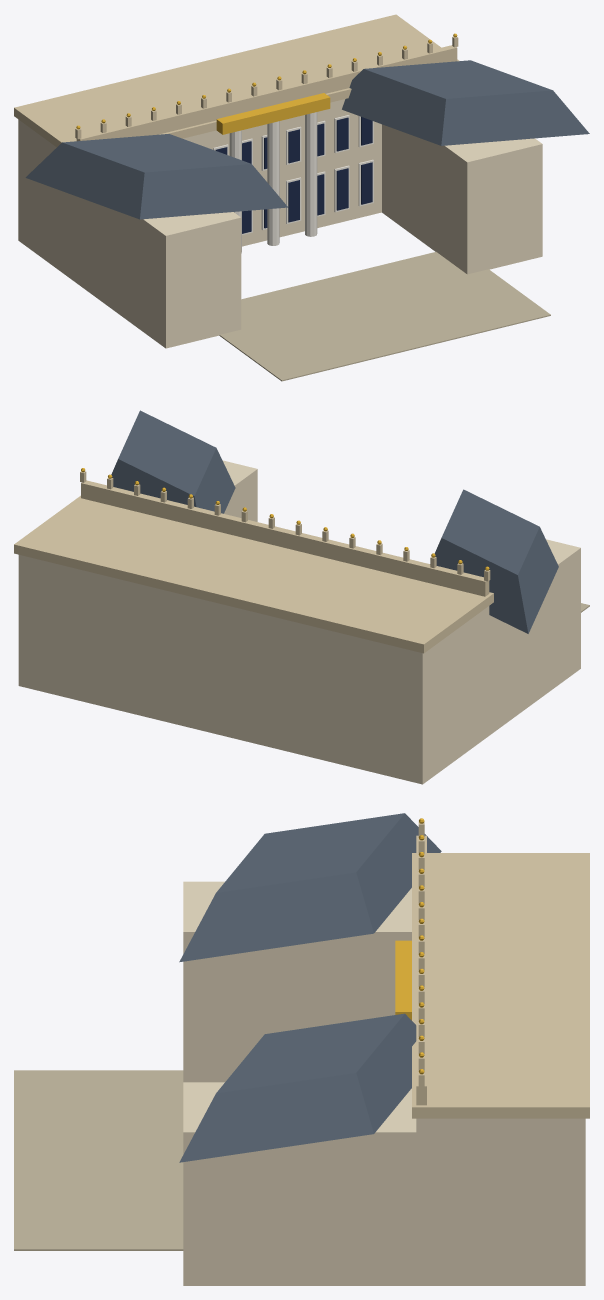
File: wersal.glb
3 renders of one model, top to bottom at view 1: azimuth 30°, elevation 25°; view 2: azimuth 150°, elevation 25°; view 3: azimuth 270°, elevation 25°, orthographic. The views are drawn at different scales.
Parts seen in each view (by area): view 1: wersal; view 2: wersal; view 3: wersal.
Part boxes in pixels (x1,y1,x2,y2): wersal: [14, 14, 589, 381]; wersal: [14, 410, 589, 784]; wersal: [14, 813, 589, 1285].
Size of the model in its own units: 17.4 by 5.67 by 13.6.
